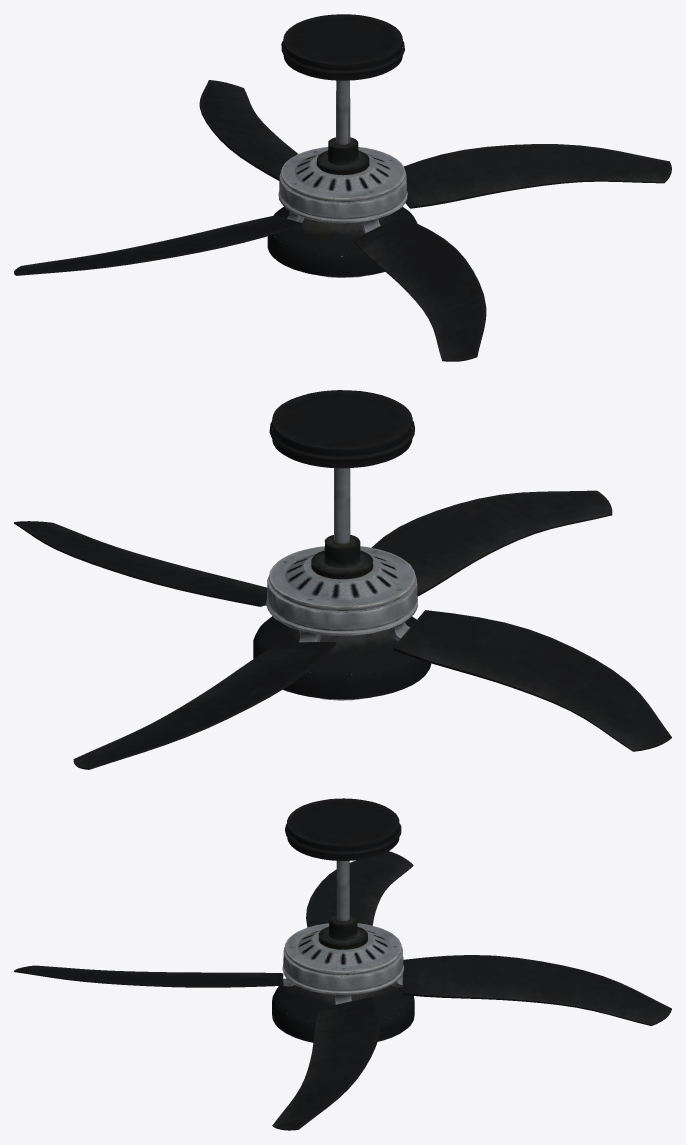
The model's file is ceiling_fan.glb.
3 views of the same model, one above another, from view 1: azimuth 30°, elevation 25°; view 2: azimuth 150°, elevation 25°; view 3: azimuth 270°, elevation 25° (orthographic). The views are drawn at different scales.
Visible parts, largest first — view 1: ceiling_fan_blades, ceiling_fan; view 2: ceiling_fan_blades, ceiling_fan; view 3: ceiling_fan_blades, ceiling_fan.
Boxes of the visible parts, bbox=[...] form: ceiling_fan_blades: bbox=[14, 80, 671, 361]; ceiling_fan: bbox=[267, 14, 416, 277]; ceiling_fan_blades: bbox=[14, 490, 671, 769]; ceiling_fan: bbox=[253, 390, 431, 700]; ceiling_fan_blades: bbox=[14, 851, 671, 1130]; ceiling_fan: bbox=[272, 798, 414, 1042].
Size of the model in its own units: 1.46 by 0.5164 by 1.46.
Materials: 1 (1 with a texture image).
